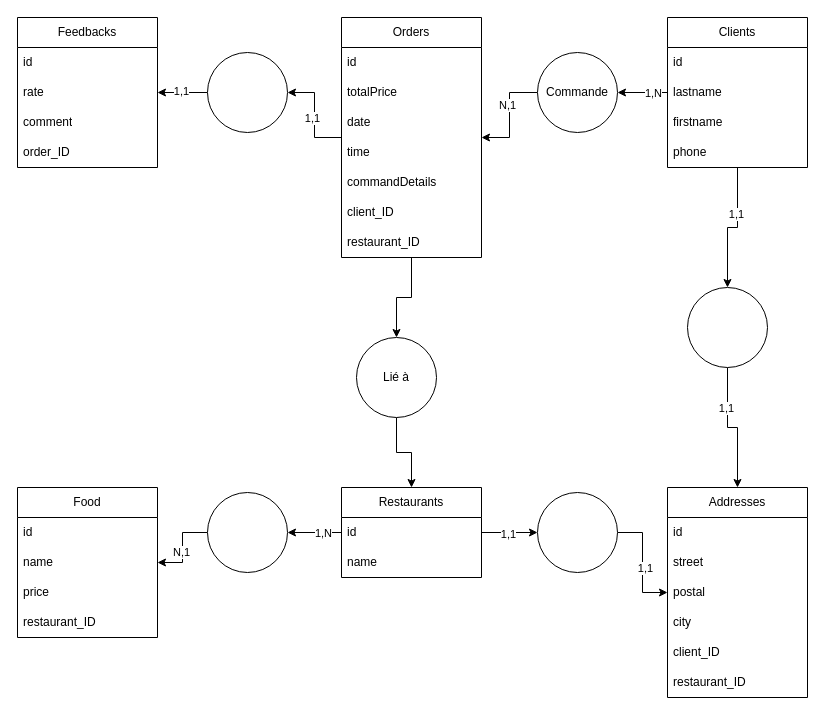
The diagram is 825 pixels wide and 715 high, and some of its shapes have lost their labels. The shapes that lost their labels are listed below. From the top down, each one's centre as x and y in pixels, then its label:
At pixel 247 92: "Fait un retour".
At pixel 727 327: "Habite".
At pixel 247 532: "Ajoute".
At pixel 577 532: "Se situe à".
